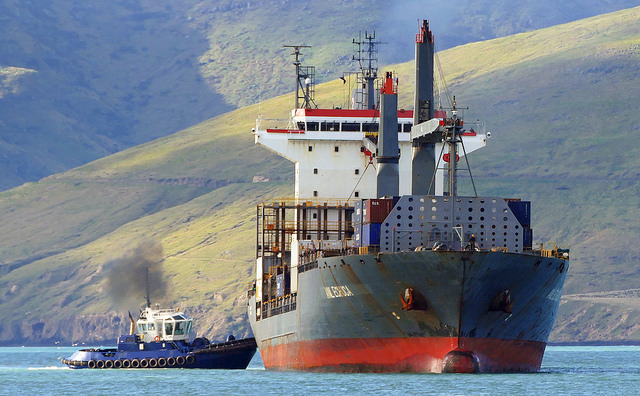container_ship: (256, 25, 572, 378)
tug_boat: (66, 267, 254, 369)
